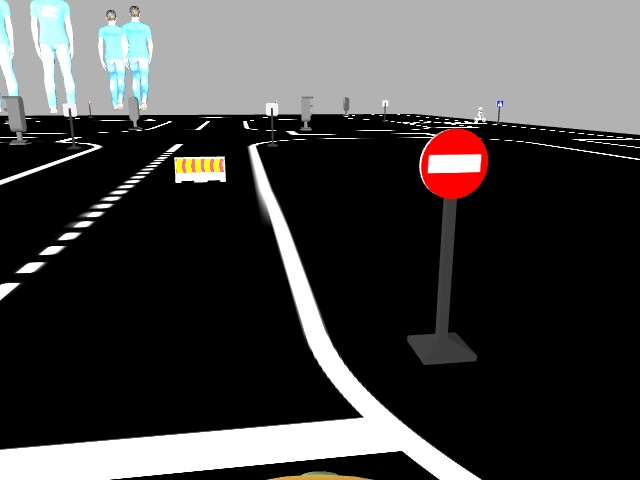ClosedRoadStand: (174, 158, 225, 181)
NoEntry: (421, 128, 486, 198)
